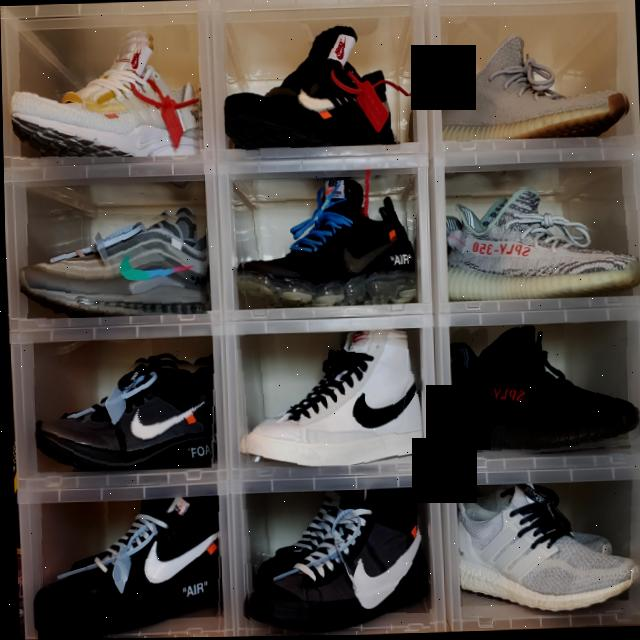shoe: (237, 491, 427, 635), (27, 500, 223, 639), (449, 323, 640, 460), (233, 333, 421, 469), (455, 481, 640, 618), (9, 31, 203, 160), (232, 179, 414, 309), (220, 23, 401, 150), (446, 184, 639, 303), (31, 354, 217, 473), (16, 206, 210, 319), (438, 33, 630, 145)
